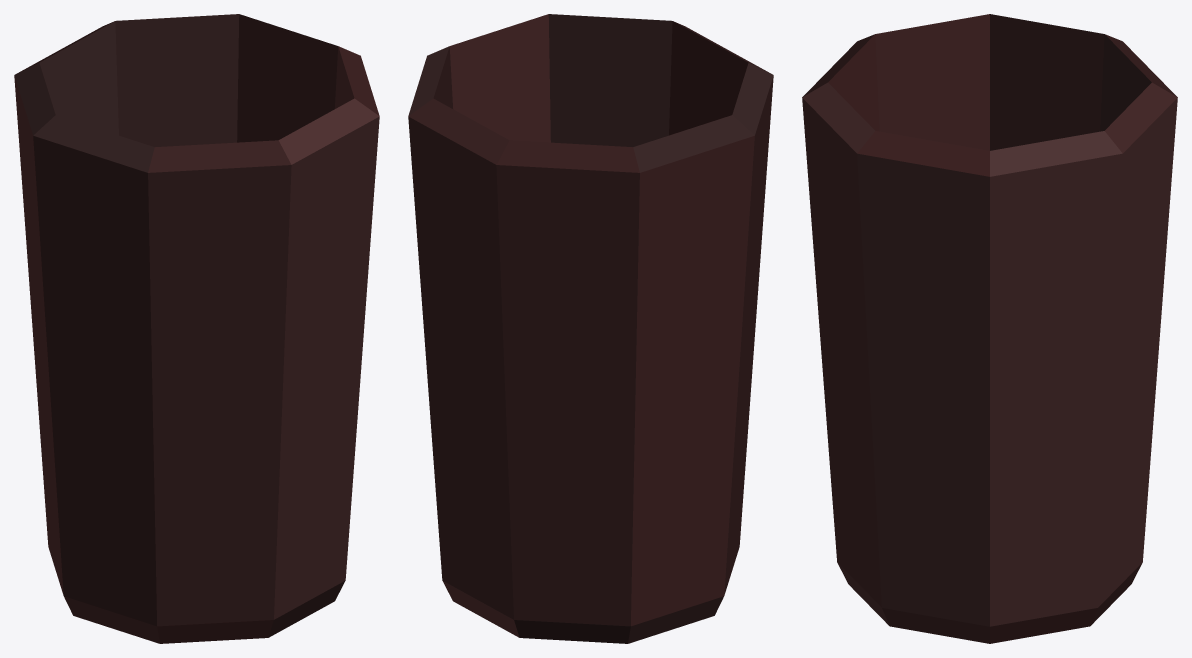
File: Decor_PotD.fbx
The picture shows the model from 3 angles, left to right: view 1: azimuth 30°, elevation 25°; view 2: azimuth 150°, elevation 25°; view 3: azimuth 270°, elevation 25°; orthographic projection.
Parts seen in each view (by area): view 1: Decor_PotD; view 2: Decor_PotD; view 3: Decor_PotD.
Part boxes in pixels (left/top/right/bottom): Decor_PotD: left=14, top=14, right=379, bottom=643; Decor_PotD: left=408, top=14, right=773, bottom=643; Decor_PotD: left=802, top=14, right=1177, bottom=643.
Size of the model in its own units: 43.49 by 64.05 by 43.49.
